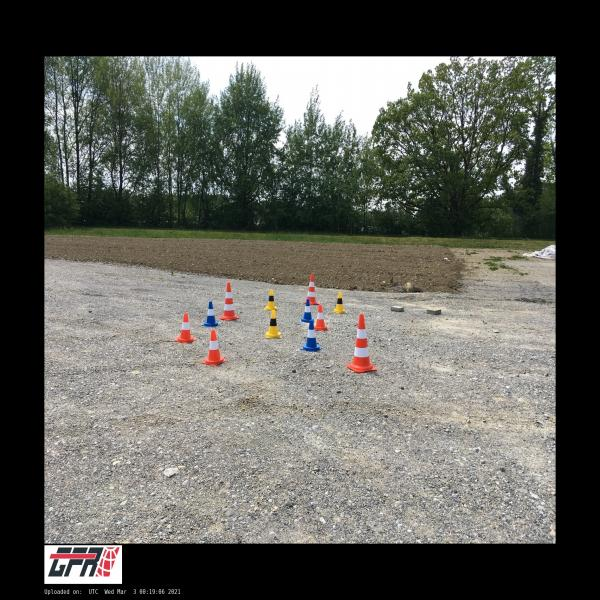blue_cone: (301, 320, 320, 351), (203, 301, 220, 326), (301, 298, 313, 323)
large_orange_cone: (347, 314, 376, 373), (220, 282, 238, 320), (305, 273, 320, 304)
orange_cone: (203, 330, 226, 366), (174, 312, 196, 344), (314, 305, 328, 330)
yellow_cone: (265, 310, 280, 336), (265, 289, 278, 309), (333, 292, 345, 312)
